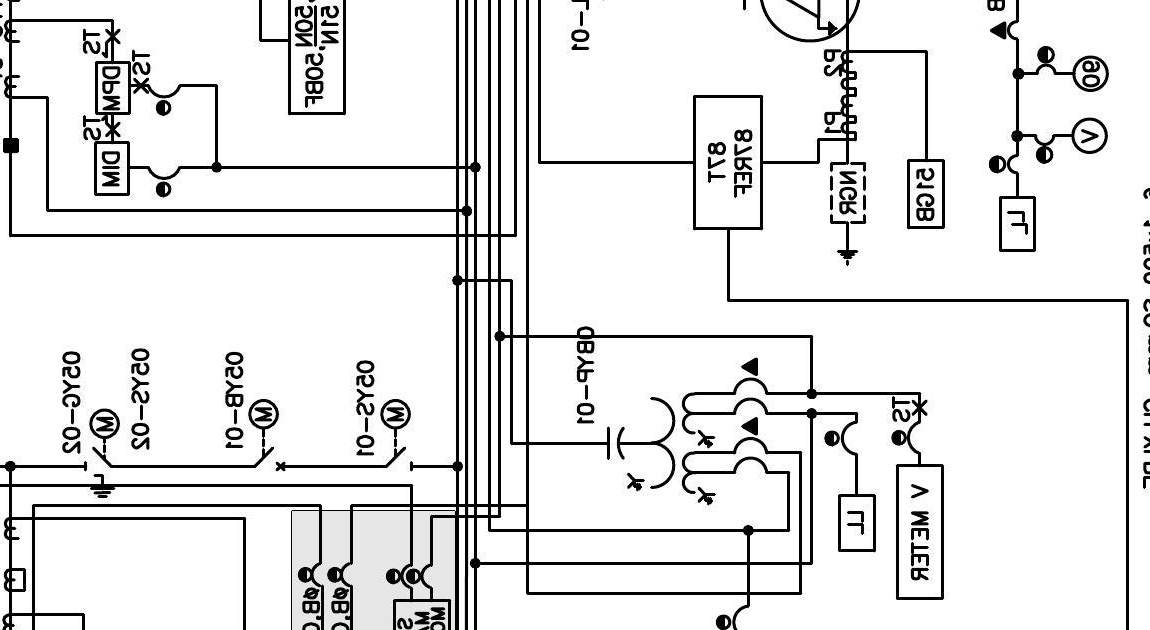115_1way_ds_w_motor: (380, 398, 414, 472)
115_3ways_ds_w_motor: (84, 407, 122, 499)
115_breaker: (253, 446, 286, 472)
115_cvt_3p: (606, 356, 770, 506)
DIM: (93, 140, 130, 196)
DPM: (95, 60, 131, 115)
LL: (837, 493, 877, 553), (999, 195, 1036, 253)
NGR_future: (830, 161, 867, 267)
v_m: (1070, 116, 1109, 155)
v_m_digital: (895, 463, 945, 601)
